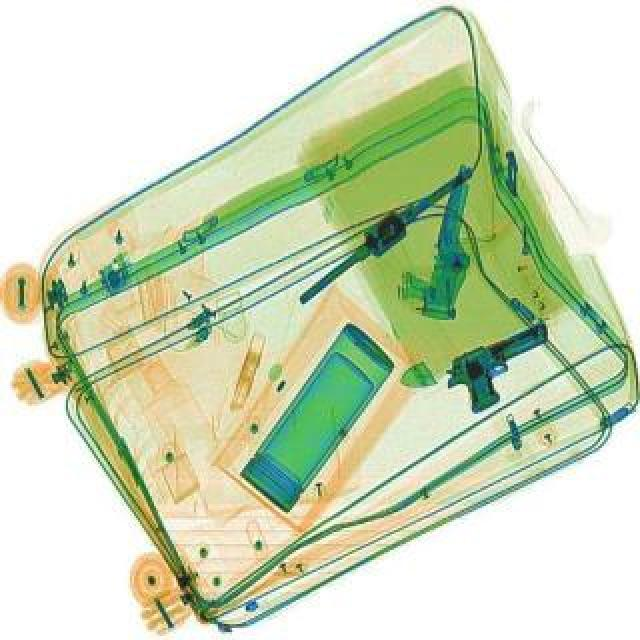gun: (434, 318, 570, 416)
